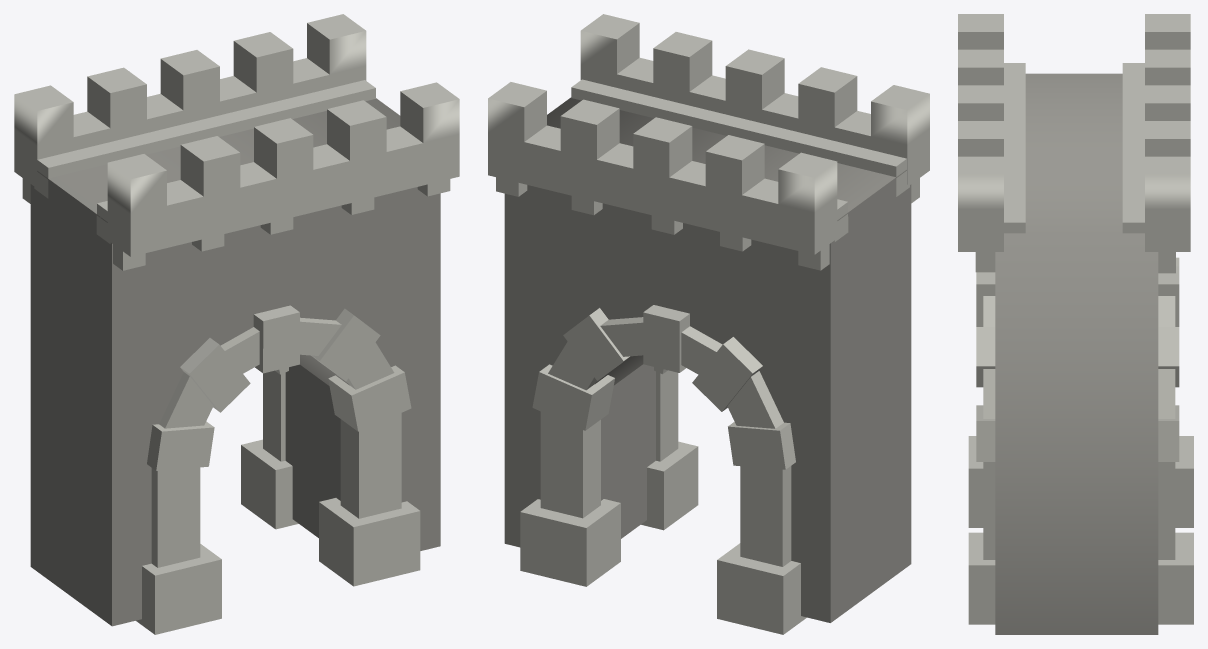
The model's file is Gate.fbx.
The picture shows the model from 3 angles, left to right: view 1: azimuth 30°, elevation 25°; view 2: azimuth 150°, elevation 25°; view 3: azimuth 270°, elevation 25°; orthographic projection.
Parts seen in each view (by area): view 1: polySurface5; view 2: polySurface5; view 3: polySurface5.
Part boxes in pixels (<box>): polySurface5: <box>14,14,459,634</box>; polySurface5: <box>488,14,929,634</box>; polySurface5: <box>958,14,1193,634</box>.
Size of the model in its own units: 140 by 191 by 86.79.
Materials: 1 (1 with a texture image).
